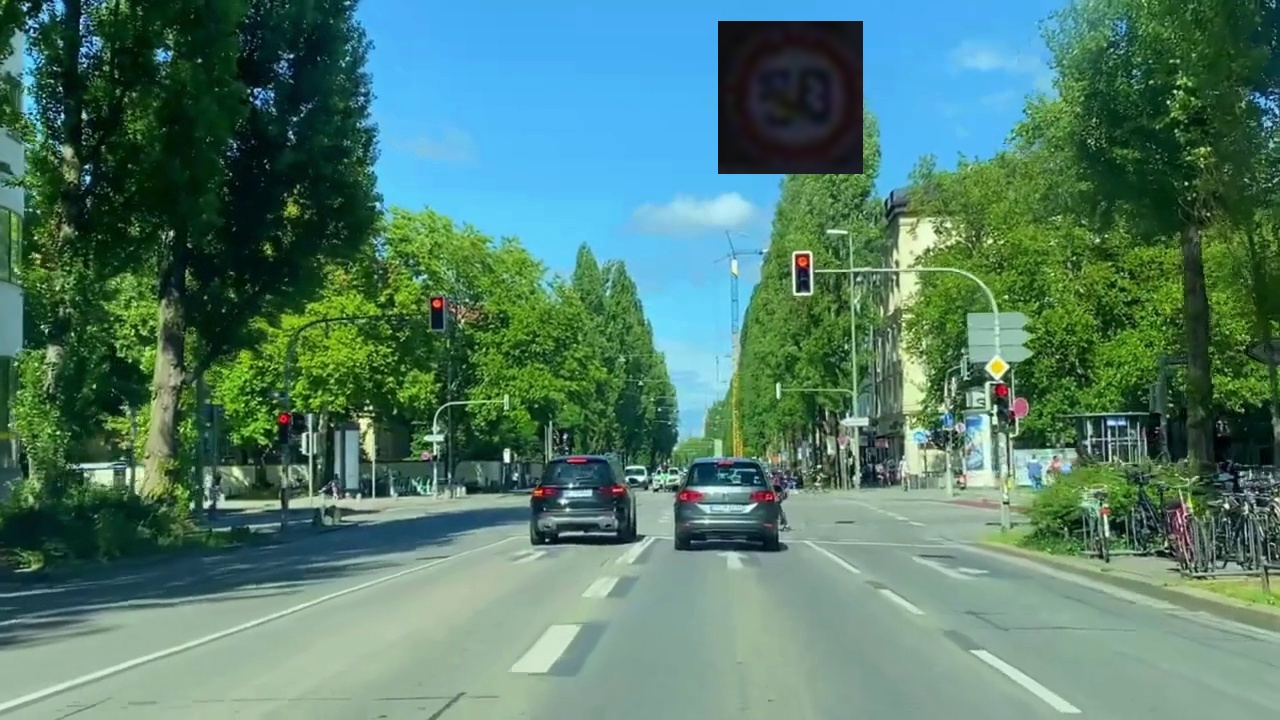Speed 50: (718, 21, 863, 174)
